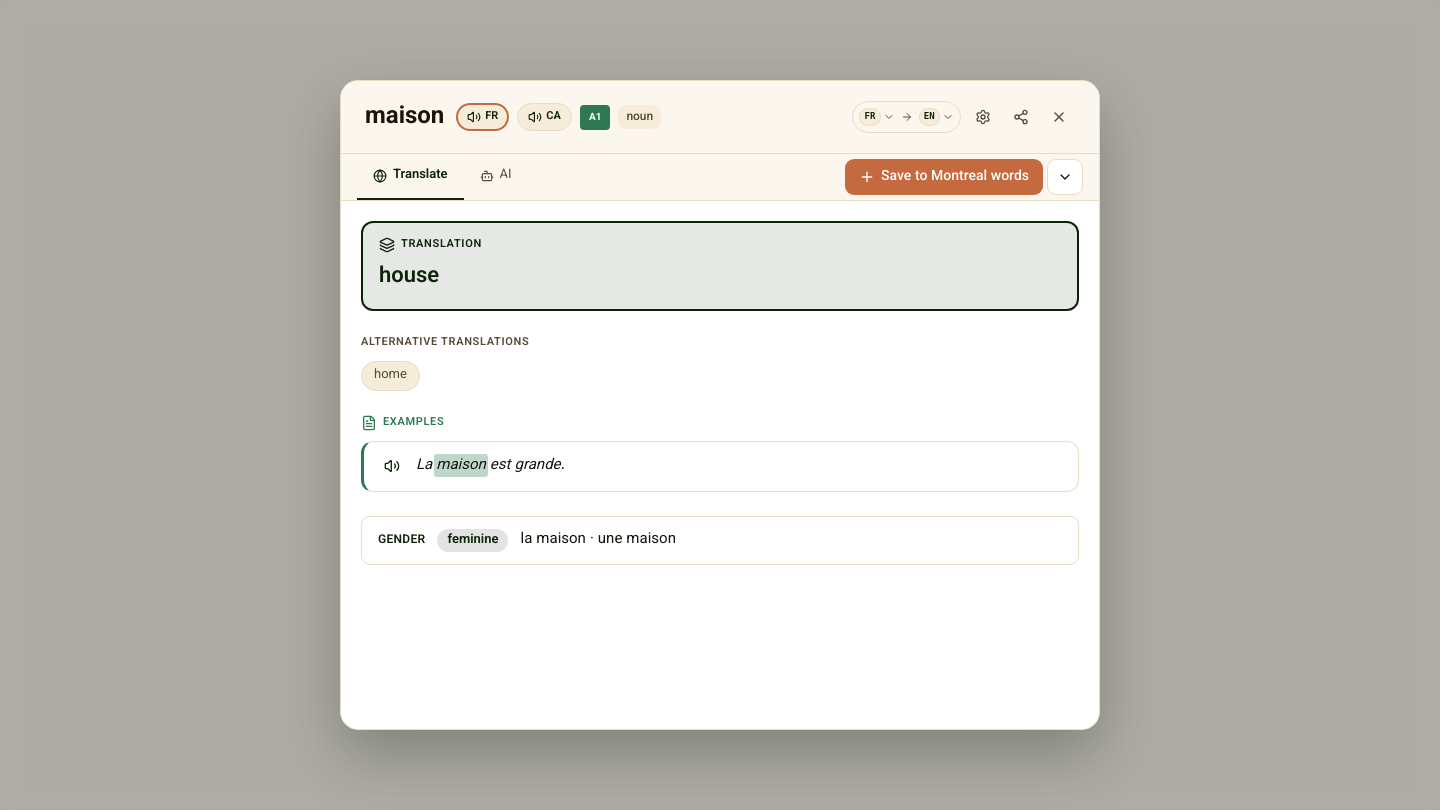
word dialog: saving › one tap saves into the last deck, then says so with a review link
The image size is (1440, 810).
Check: the text "house" is shown, box [379,259,439,294]
Click the button "Save to Montreal words": x=944, y=177 [845,159,1043,195]
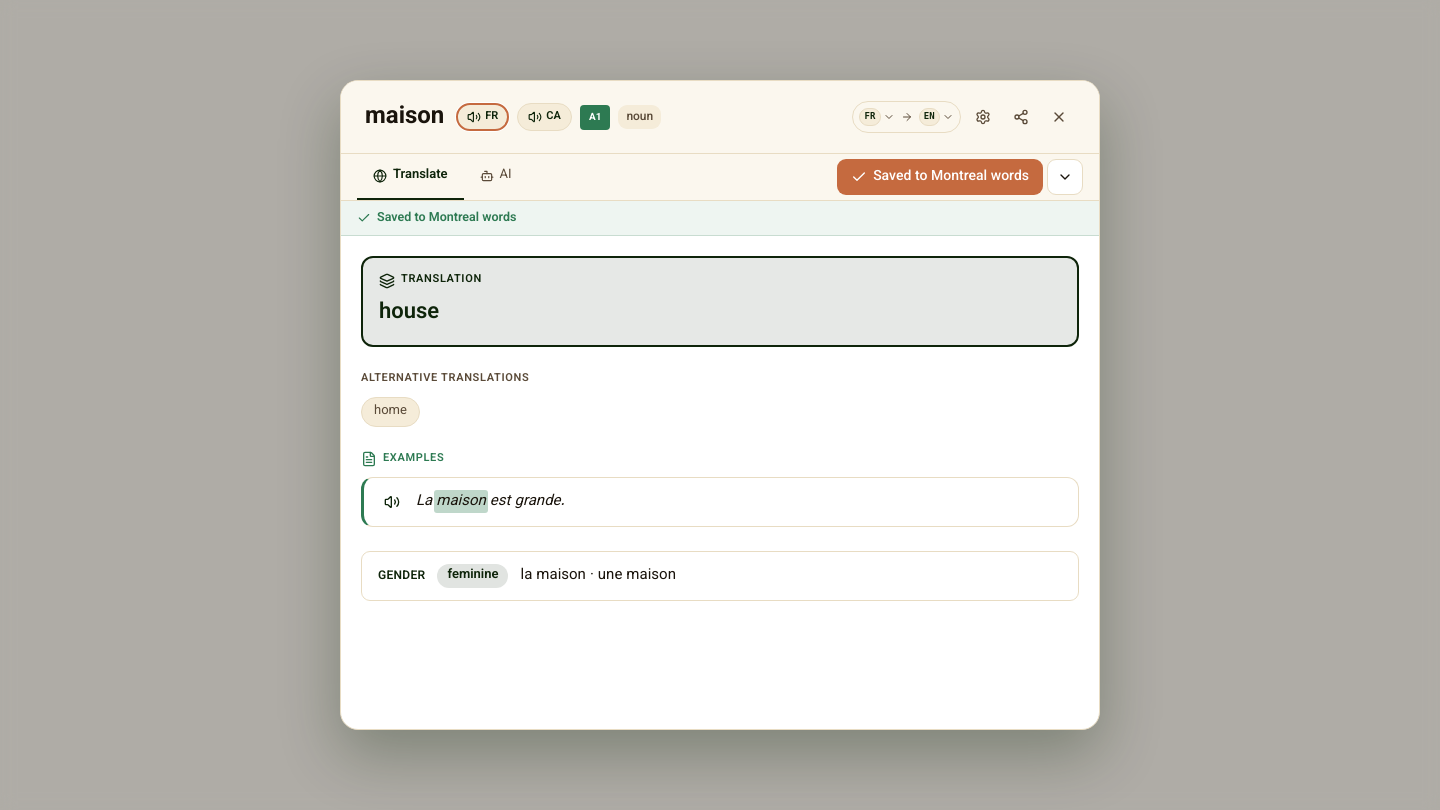
Check: the button named "Choose another deck" is shown, box [1047,159,1083,195]
Check: the text "Saved to Montreal words" is shown, box [873,167,1029,187]
